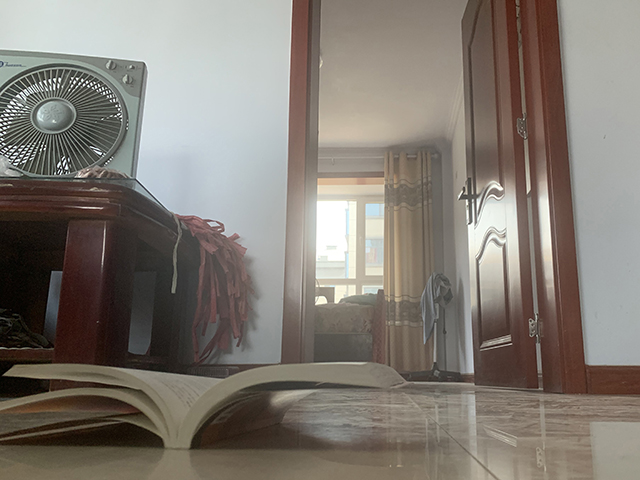book: (1, 361, 411, 450)
curtain: (382, 149, 441, 379)
table: (1, 176, 206, 363)
